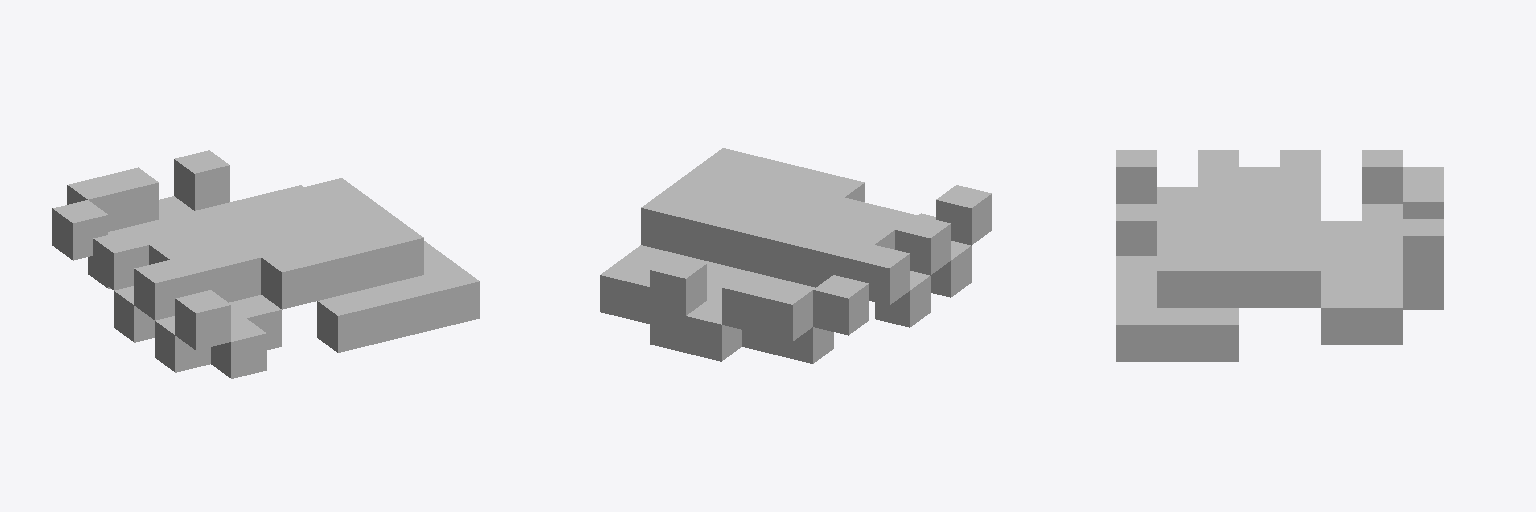
File: lettuce.obj
The picture shows the model from 3 angles: view 1: azimuth 30°, elevation 25°; view 2: azimuth 150°, elevation 25°; view 3: azimuth 270°, elevation 25°; orthographic projection.
Size of the model in its own units: 8 by 2 by 8.